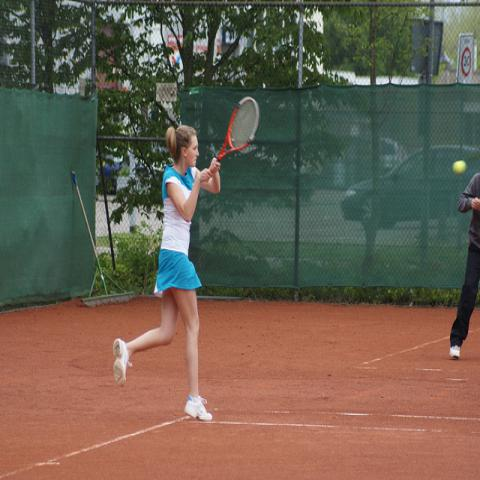car: (339, 144, 479, 231), (380, 139, 406, 170)
